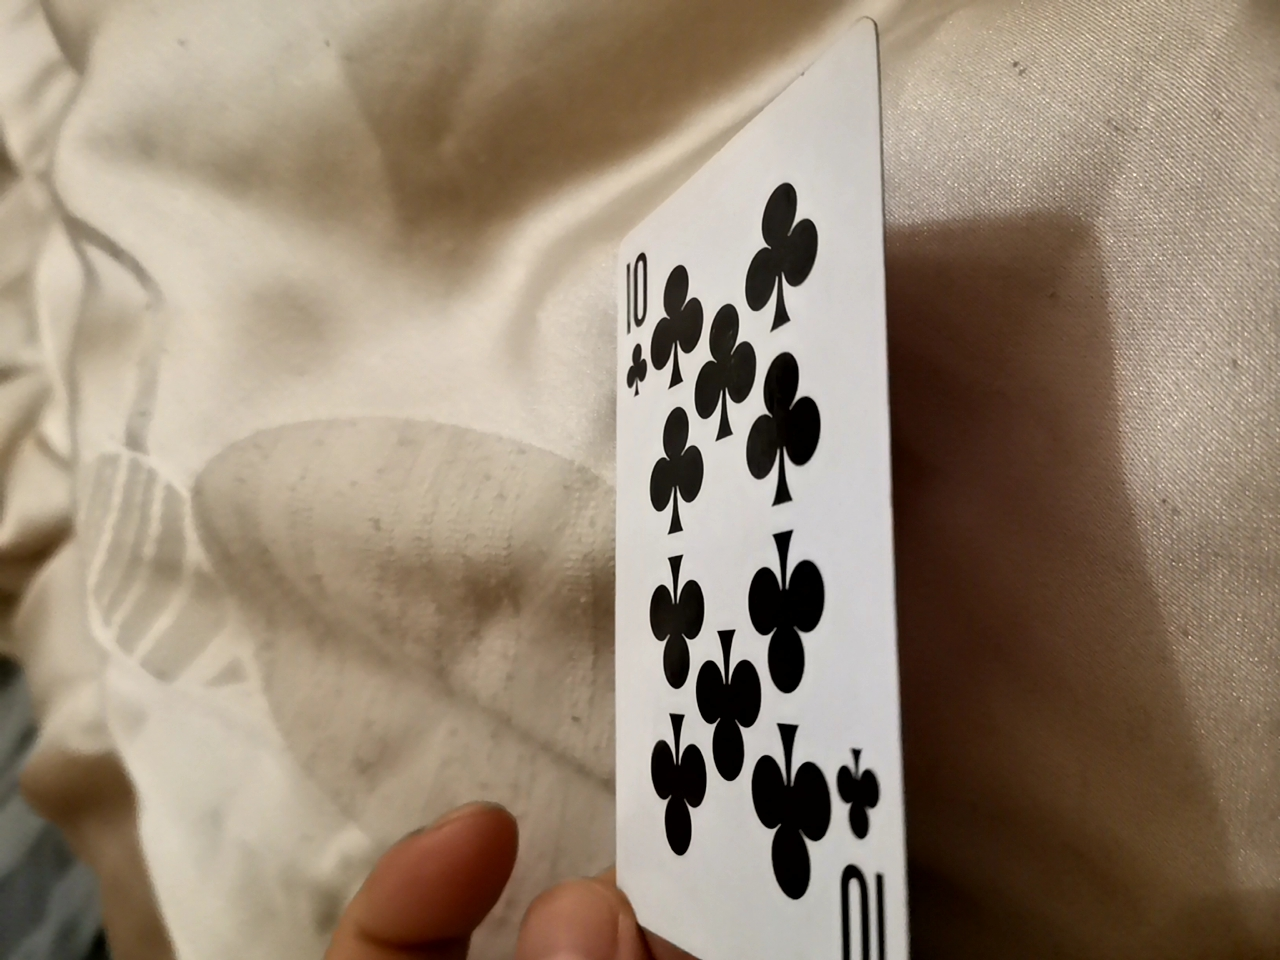mh 10: (603, 108, 915, 952)
